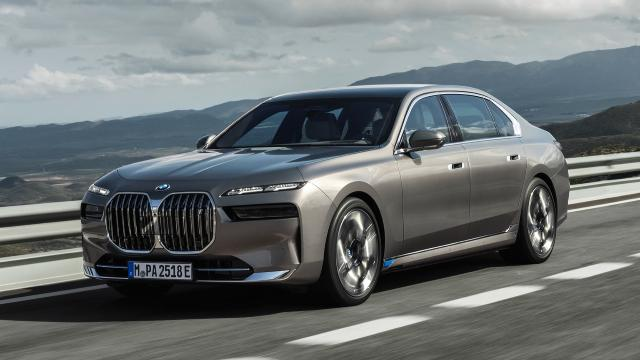bmw: (80, 84, 570, 306)
